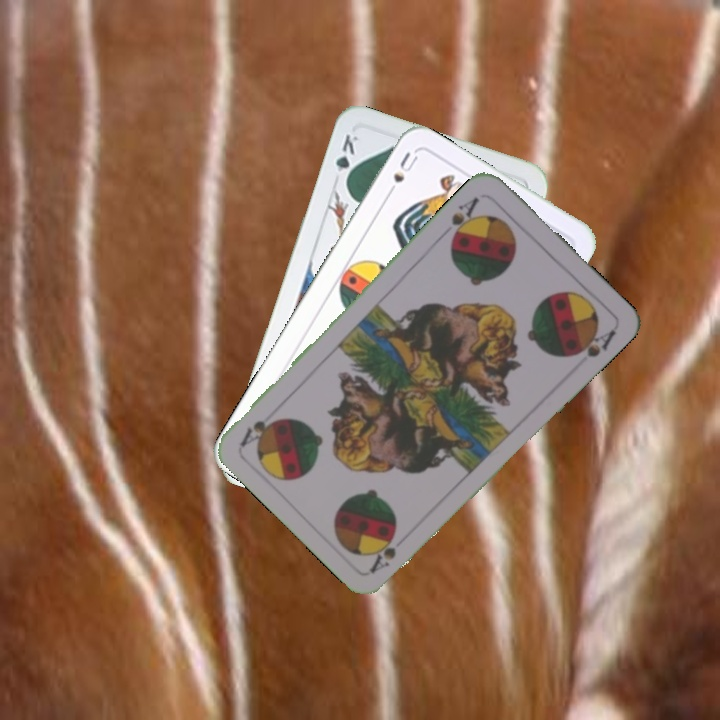GK: (331, 127, 361, 188)
SA: (446, 192, 483, 244), (365, 528, 400, 576)
SU: (381, 148, 421, 201)
